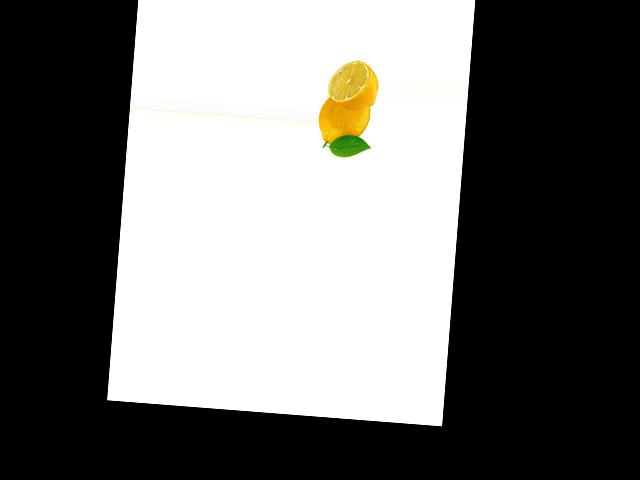lemon: (315, 95, 373, 152)
